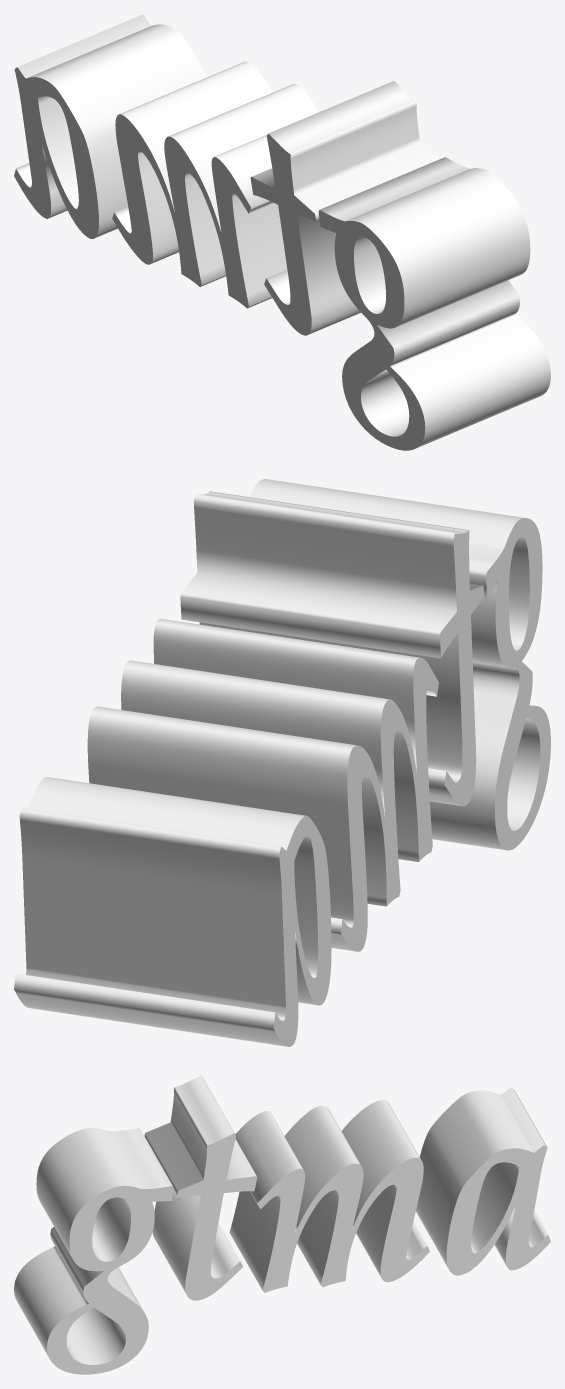
The picture shows the model from 3 angles, top to bottom: view 1: azimuth 30°, elevation 25°; view 2: azimuth 150°, elevation 25°; view 3: azimuth 270°, elevation 25°; orthographic projection. The views are drawn at different scales.
Visible parts, largest first — view 1: Text.001; view 2: Text.001; view 3: Text.001.
Boxes of the visible parts, box(x1,y1,x2,y2) form: Text.001: box(14, 14, 550, 450); Text.001: box(14, 479, 550, 1046); Text.001: box(14, 1075, 550, 1374).
Size of what is drawn, in the model's own units: 3.1 by 2.97 by 6.34.
1 material, 1 textured.
